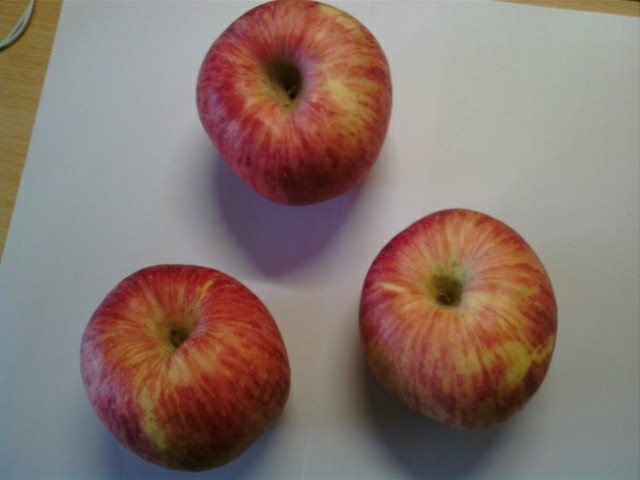normal_apple: (79, 264, 293, 472), (360, 207, 560, 429), (195, 1, 394, 208)
